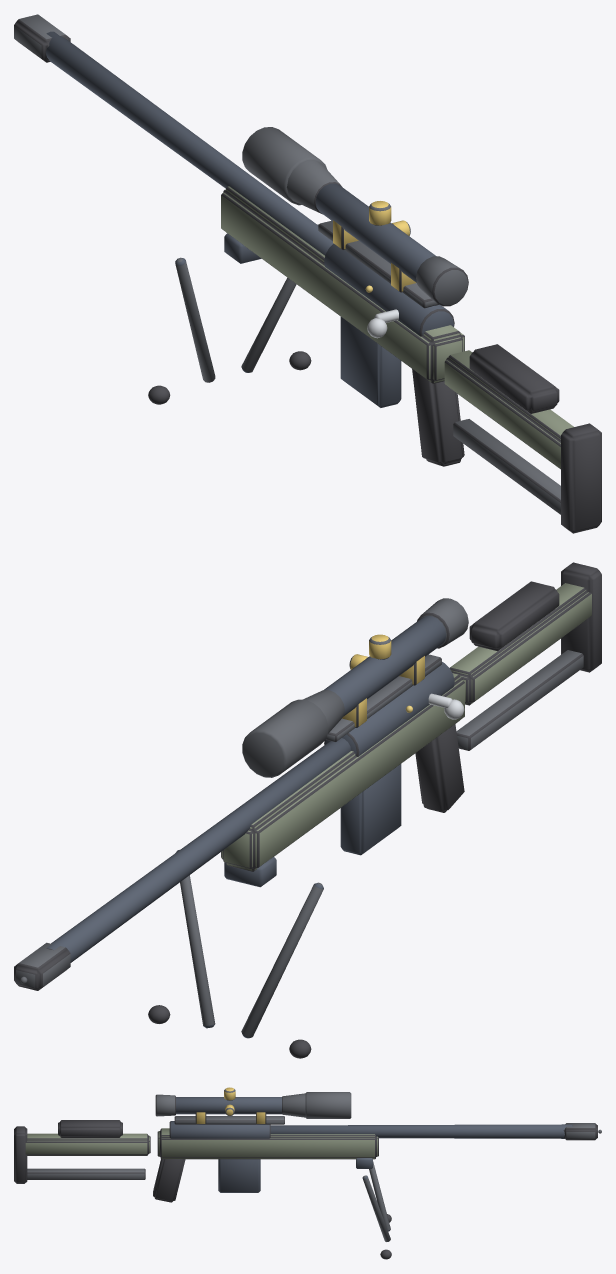
The model's file is OW_Weapon_Sniper.fbx.
3 renders of one model, top to bottom at view 1: azimuth 30°, elevation 25°; view 2: azimuth 150°, elevation 25°; view 3: azimuth 270°, elevation 25°, orthographic. The views are drawn at different scales.
Parts seen in each view (by area): view 1: Sniper_Chassis, Part_Bipod, Part_Scope_8x, Part_Mag; view 2: Sniper_Chassis, Part_Bipod, Part_Scope_8x, Part_Mag; view 3: Sniper_Chassis, Part_Scope_8x, Part_Mag, Part_Bipod.
Boxes of the visible parts, left/top/right/bottom form: Sniper_Chassis: left=14, top=14, right=601, bottom=533; Part_Bipod: left=148, top=224, right=318, bottom=404; Part_Scope_8x: left=242, top=127, right=410, bottom=235; Part_Mag: left=340, top=317, right=401, bottom=407; Sniper_Chassis: left=14, top=562, right=601, bottom=990; Part_Bipod: left=148, top=850, right=323, bottom=1058; Part_Scope_8x: left=242, top=634, right=391, bottom=777; Part_Mag: left=340, top=764, right=401, bottom=855; Sniper_Chassis: left=14, top=1093, right=597, bottom=1202; Part_Scope_8x: left=224, top=1087, right=351, bottom=1118; Part_Mag: left=218, top=1159, right=260, bottom=1192; Part_Bipod: left=356, top=1158, right=391, bottom=1259.
Bounding box in the file's own units: 20 × 34.8 × 122.
